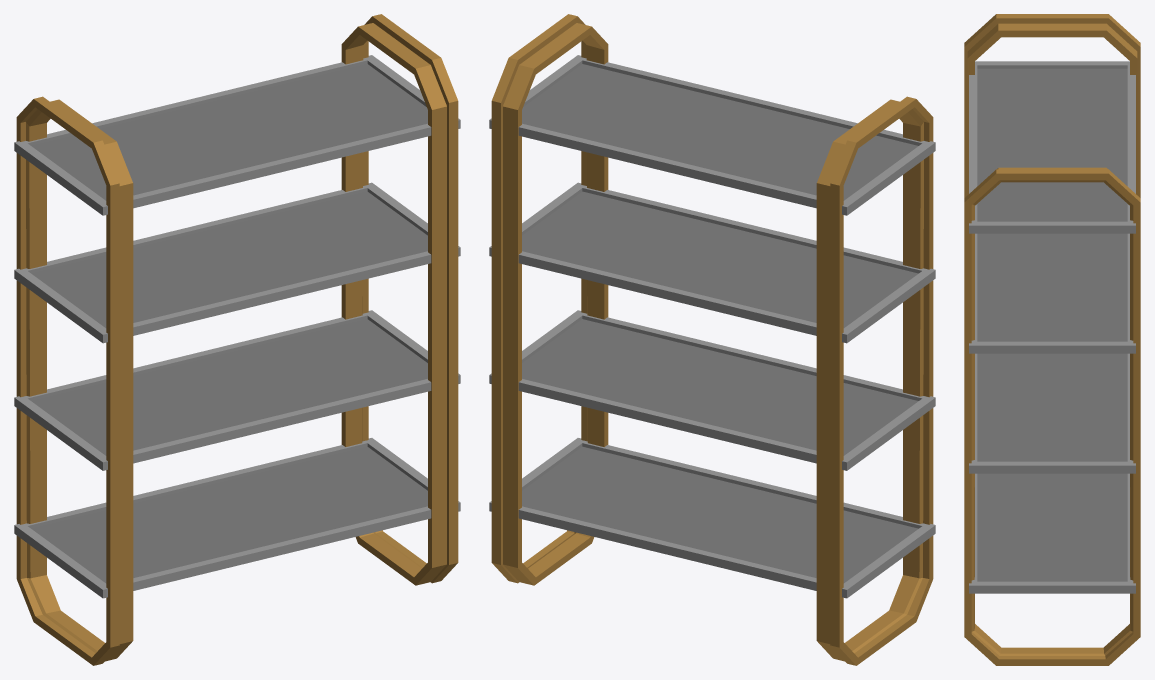
3 renders of one model, left to right at view 1: azimuth 30°, elevation 25°; view 2: azimuth 150°, elevation 25°; view 3: azimuth 270°, elevation 25°, orthographic. The views are drawn at different scales.
Parts seen in each view (by area): view 1: Props_Shelf; view 2: Props_Shelf; view 3: Props_Shelf.
Part boxes in pixels (bbox=[...]): Props_Shelf: bbox=[14, 14, 460, 665]; Props_Shelf: bbox=[489, 14, 935, 665]; Props_Shelf: bbox=[964, 14, 1140, 665].
Size of the model in its own units: 1.79 by 2.5 by 0.8108.
